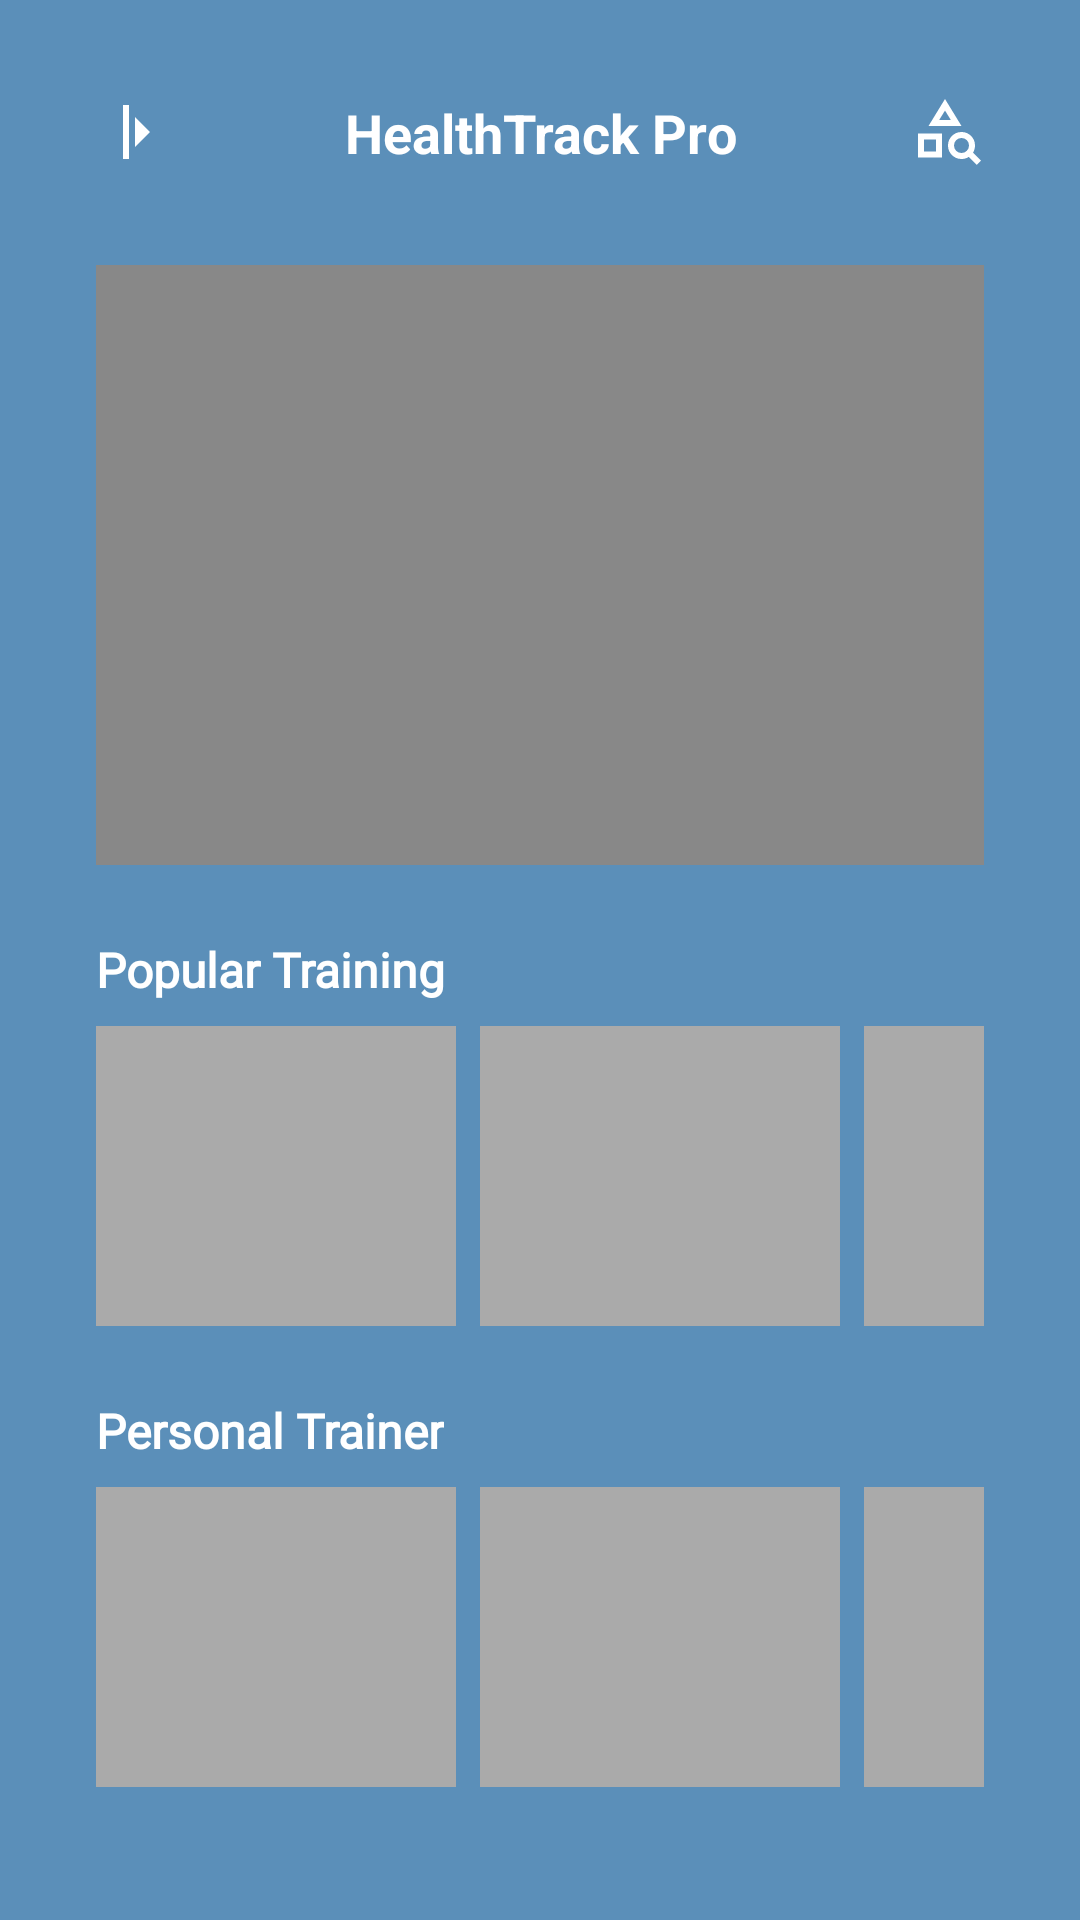

Where to tap for icons on this 1080px x 1920px app screen, as [x,y]:
Search: [949,132]
